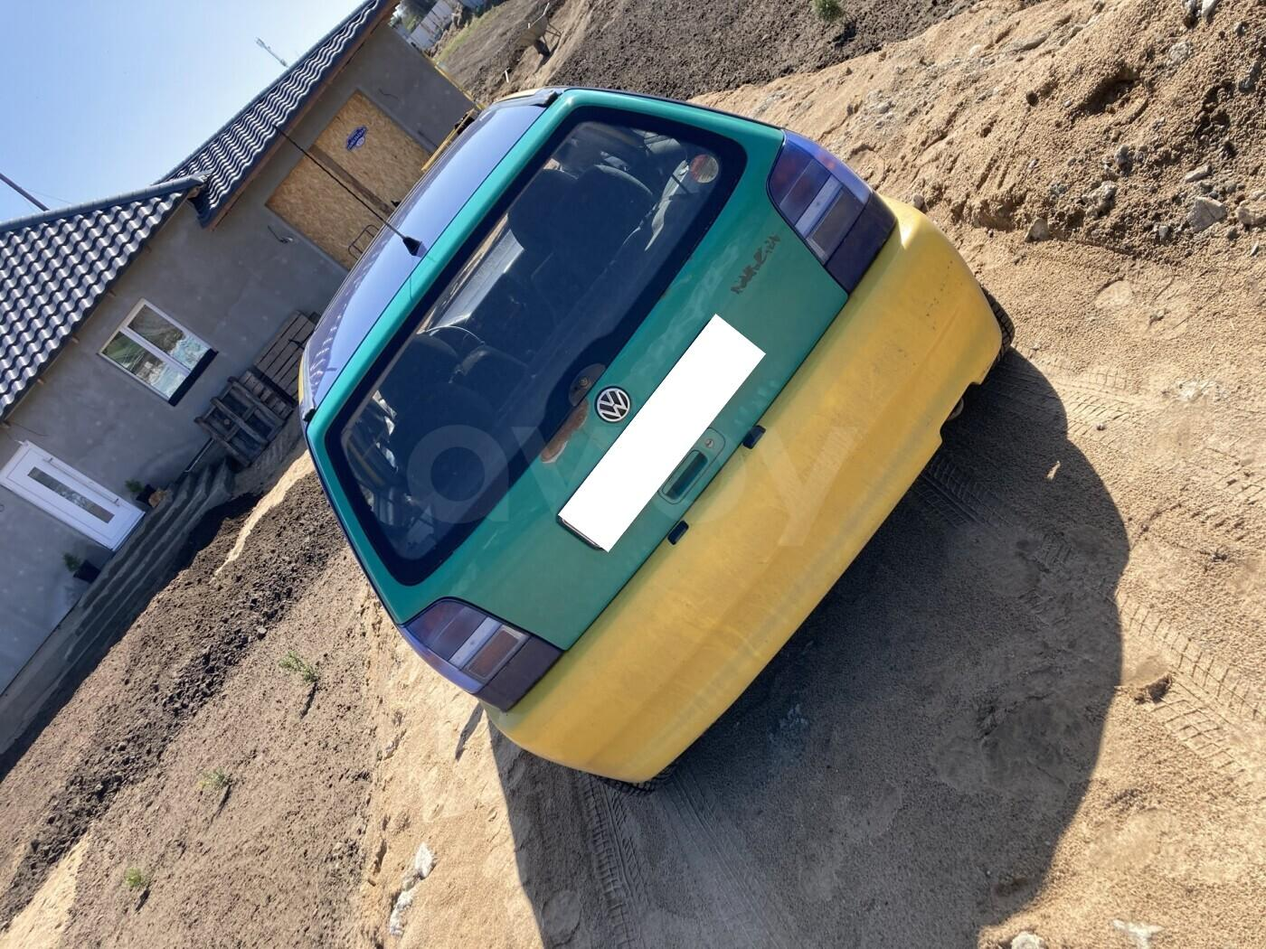Polo_1994-2002: (263, 70, 1052, 806)
